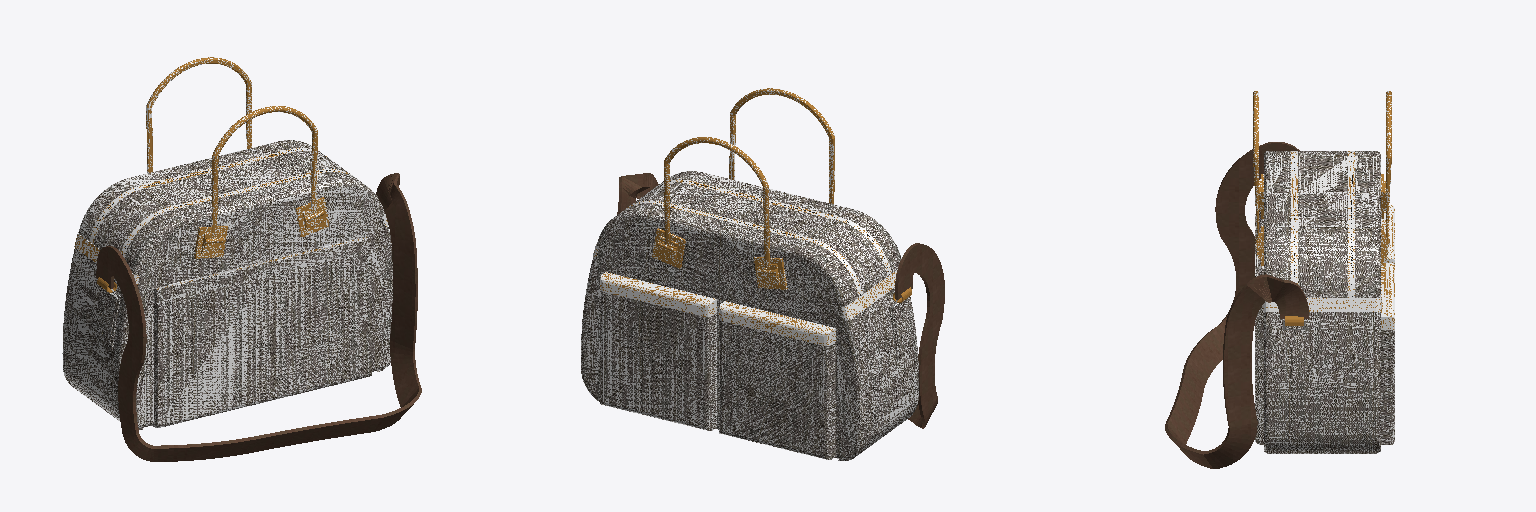
3 views of the same model, side by side, from view 1: azimuth 30°, elevation 25°; view 2: azimuth 150°, elevation 25°; view 3: azimuth 270°, elevation 25° (orthographic).
Visible parts, largest first — view 1: mesh11_mesh11-geometry, mesh15_mesh15-geometry, mesh16_mesh16-geometry, mesh14_mesh14-geometry, mesh18_mesh18-geometry, mesh5_mesh5-geometry; view 2: mesh11_mesh11-geometry, mesh15_mesh15-geometry, mesh14_mesh14-geometry, mesh16_mesh16-geometry, mesh4_mesh4-geometry, mesh17_mesh17-geometry; view 3: mesh11_mesh11-geometry, mesh15_mesh15-geometry, mesh16_mesh16-geometry, mesh14_mesh14-geometry.
Boxes of the visible parts, x1,y1,x2,y2 form: mesh11_mesh11-geometry: [62, 140, 392, 429]; mesh15_mesh15-geometry: [96, 173, 421, 461]; mesh16_mesh16-geometry: [204, 106, 324, 250]; mesh14_mesh14-geometry: [146, 57, 251, 172]; mesh18_mesh18-geometry: [194, 226, 227, 258]; mesh5_mesh5-geometry: [296, 197, 328, 237]; mesh11_mesh11-geometry: [581, 171, 918, 460]; mesh15_mesh15-geometry: [617, 173, 944, 428]; mesh14_mesh14-geometry: [657, 137, 777, 281]; mesh16_mesh16-geometry: [729, 88, 834, 203]; mesh4_mesh4-geometry: [652, 228, 685, 268]; mesh17_mesh17-geometry: [754, 257, 787, 289]; mesh11_mesh11-geometry: [1255, 151, 1394, 453]; mesh15_mesh15-geometry: [1165, 142, 1308, 468]; mesh16_mesh16-geometry: [1253, 91, 1258, 254]; mesh14_mesh14-geometry: [1386, 91, 1391, 254].
Size of the model in its own units: 0.6301 by 0.6471 by 0.4292.
7 materials, 2 textured.